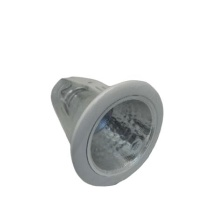light_bulb: (35, 63, 168, 195)
